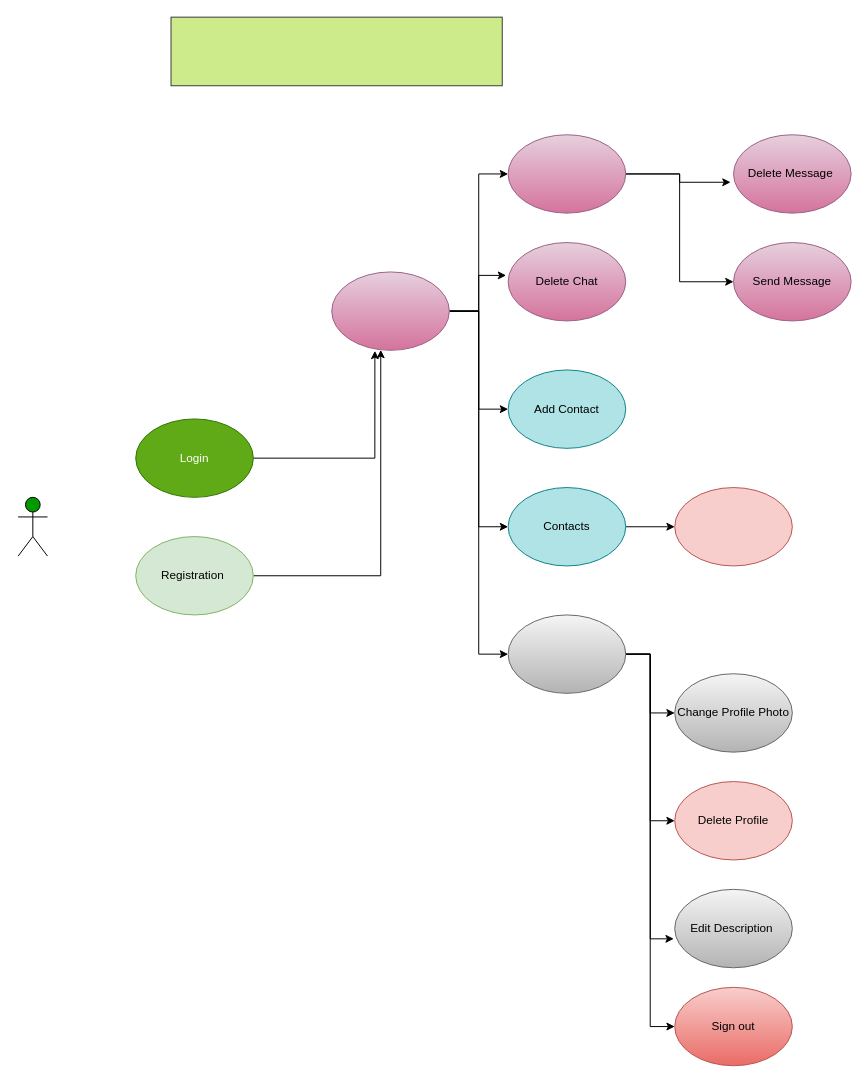
Some shapes in this 868 by 1083 pixel diagram are drawn without their labels. The centre of each missing label's shape, as x and y in pixels:
Chat List: point (390, 310)
Delete Contact: point (733, 526)
Open Chat: point (566, 173)
Settings: point (566, 653)
Use Case Diagram For Messenger (mobile): point (336, 51)
USER: point (32, 526)
